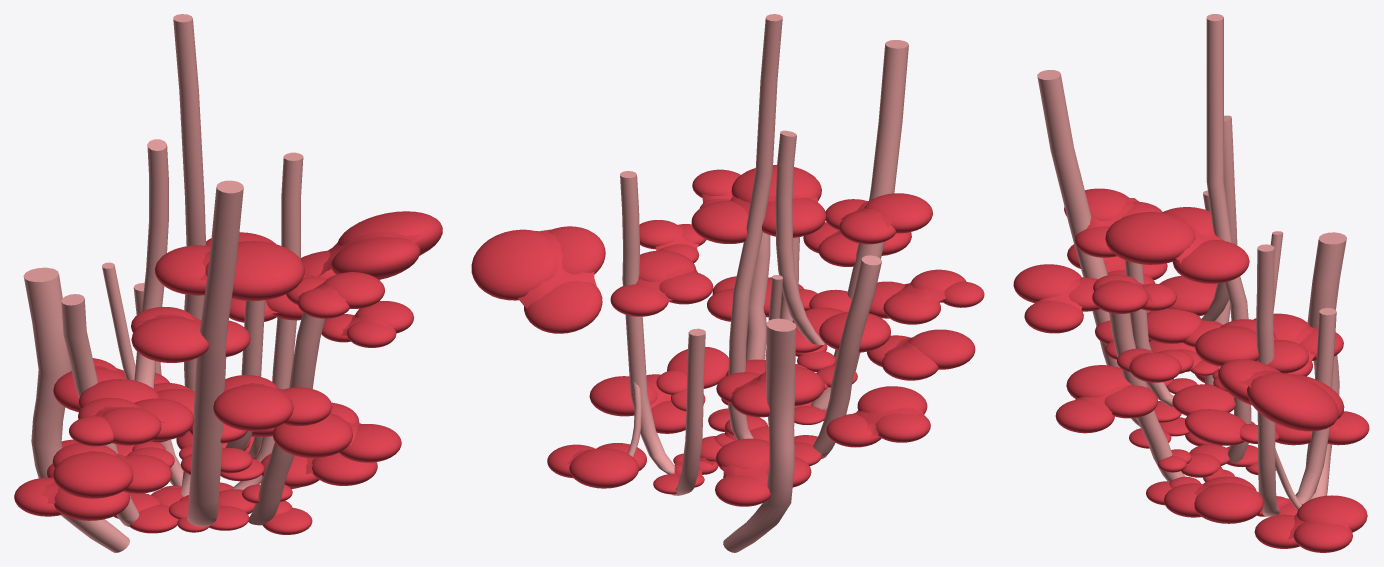
The model's file is 碰撞盒5.FBX.
3 renders of one model, left to right at view 1: azimuth 30°, elevation 25°; view 2: azimuth 150°, elevation 25°; view 3: azimuth 270°, elevation 25°, orthographic. The views are drawn at different scales.
Visible parts, largest first — view 1: Sphere__24_, Cylinder003, Cylinder001, Cylinder005, Cylinder007, Cylinder010, Cylinder008, Cylinder002, Cylinder011, Cylinder009, Cylinder006; view 2: Sphere__24_, Cylinder005, Cylinder001, Cylinder003, Cylinder007, Cylinder002, Cylinder010, Cylinder006, Cylinder008; view 3: Sphere__24_, Cylinder005, Cylinder003, Cylinder007, Cylinder001, Cylinder006, Cylinder008, Cylinder010, Cylinder011, Cylinder012, Cylinder009.
Boxes of the visible parts, x1,y1,x2,y2 form: Sphere__24_: [14, 211, 442, 534]; Cylinder003: [187, 180, 243, 526]; Cylinder001: [23, 267, 129, 552]; Cylinder005: [173, 14, 206, 496]; Cylinder007: [232, 152, 303, 489]; Cylinder010: [134, 139, 168, 388]; Cylinder008: [248, 312, 325, 525]; Cylinder002: [61, 294, 139, 526]; Cylinder011: [225, 300, 265, 450]; Cylinder009: [102, 262, 135, 380]; Cylinder006: [133, 283, 183, 486]; Sphere__24_: [471, 165, 984, 506]; Cylinder005: [728, 14, 782, 439]; Cylinder001: [723, 318, 796, 552]; Cylinder003: [811, 40, 908, 410]; Cylinder007: [620, 171, 674, 474]; Cylinder002: [813, 255, 881, 458]; Cylinder010: [775, 130, 824, 345]; Cylinder006: [671, 328, 705, 495]; Cylinder008: [746, 232, 770, 360]; Sphere__24_: [1013, 188, 1369, 552]; Cylinder005: [1206, 14, 1251, 462]; Cylinder003: [1037, 70, 1139, 426]; Cylinder007: [1256, 244, 1280, 516]; Cylinder001: [1305, 232, 1346, 499]; Cylinder006: [1295, 308, 1336, 503]; Cylinder008: [1109, 312, 1184, 481]; Cylinder010: [1201, 115, 1237, 321]; Cylinder011: [1124, 260, 1173, 406]; Cylinder012: [1275, 448, 1301, 510]; Cylinder009: [1270, 231, 1283, 309].
Bounding box in the file's own units: 1927 × 2223 × 1426.
